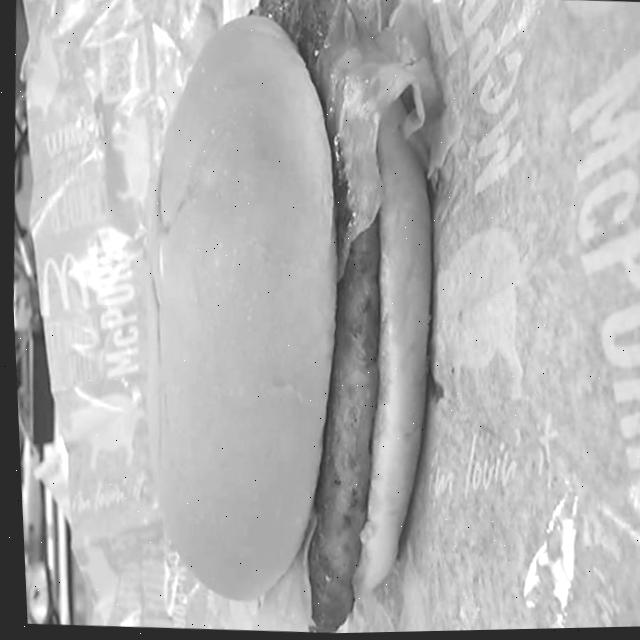汉堡快餐: (110, 0, 460, 638)
